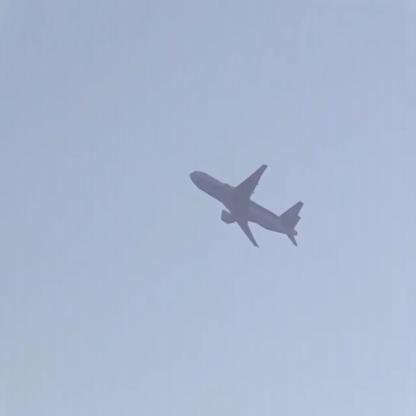CIV_Plane: (188, 164, 306, 250)
